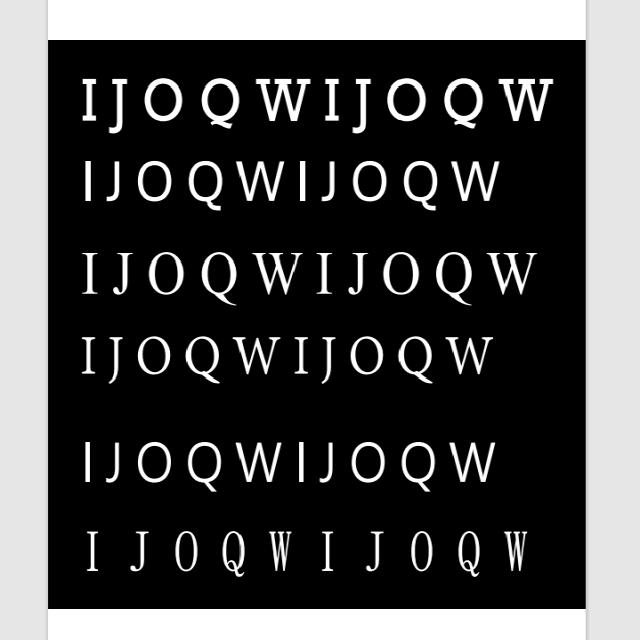0: (456, 526, 484, 580), (221, 526, 247, 578), (409, 527, 436, 575), (175, 525, 200, 573)
9: (188, 439, 224, 499)
I: (72, 70, 104, 128), (314, 523, 340, 586), (311, 243, 338, 298), (77, 248, 101, 304), (76, 153, 102, 203), (79, 325, 101, 383), (79, 521, 101, 575), (75, 437, 100, 483), (321, 74, 342, 128), (294, 151, 314, 207), (293, 436, 310, 496), (291, 336, 310, 384)
W: (501, 74, 557, 122), (451, 161, 504, 207), (233, 334, 284, 380)
